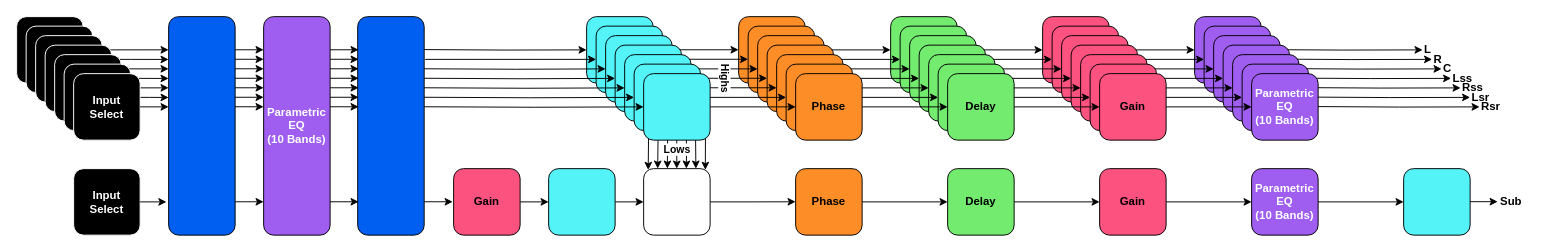
This 1553x252 diagram has some shape labels left out. The shapes that lost their labels are listed below. From the top down, each one's centre as x and y in pixels, then its label:
At point (201, 125): "Low Shelving".
At point (390, 125): "High Shelving".
At point (676, 106): "Crossover".
At point (581, 201): "Lowpass".
At point (676, 201): "Summation".
At point (1436, 201): "Highpass".
